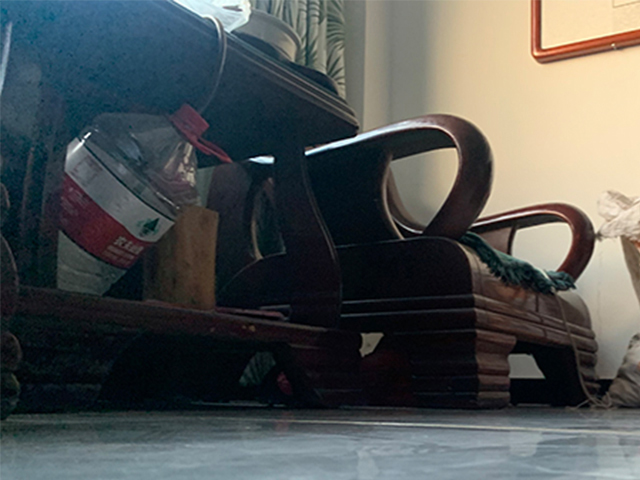sofa: (215, 113, 604, 411)
wire: (552, 288, 614, 414)
